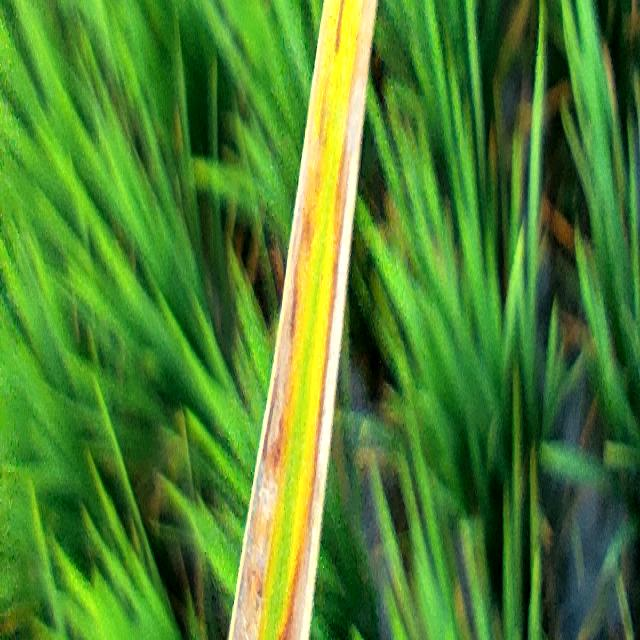BLB: (277, 0, 376, 640), (230, 21, 331, 640)
